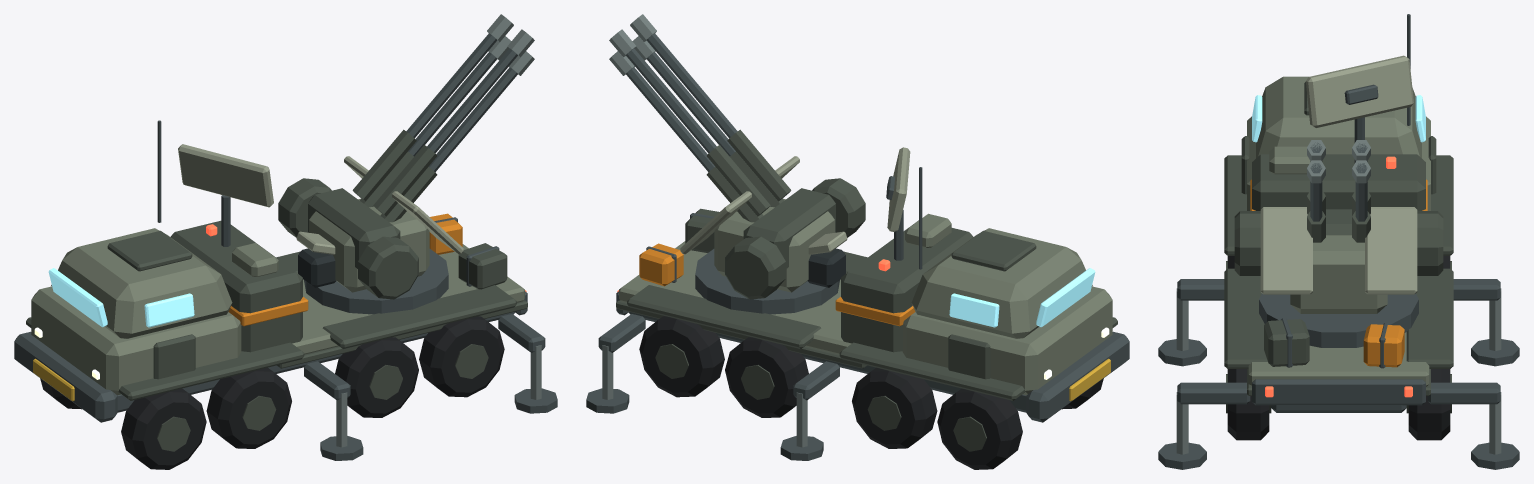
Rendered from fa_hagel.glb.
The picture shows the model from 3 angles, left to right: view 1: azimuth 30°, elevation 25°; view 2: azimuth 150°, elevation 25°; view 3: azimuth 270°, elevation 25°; orthographic projection. The views are drawn at different scales.
Visible parts, largest first — view 1: fa_hagel; view 2: fa_hagel; view 3: fa_hagel.
Boxes of the visible parts, bbox=[...] form: fa_hagel: bbox=[14, 14, 557, 469]; fa_hagel: bbox=[586, 14, 1129, 469]; fa_hagel: bbox=[1158, 14, 1519, 469].
Size of the model in its own units: 3.41 by 2.2 by 2.08.
